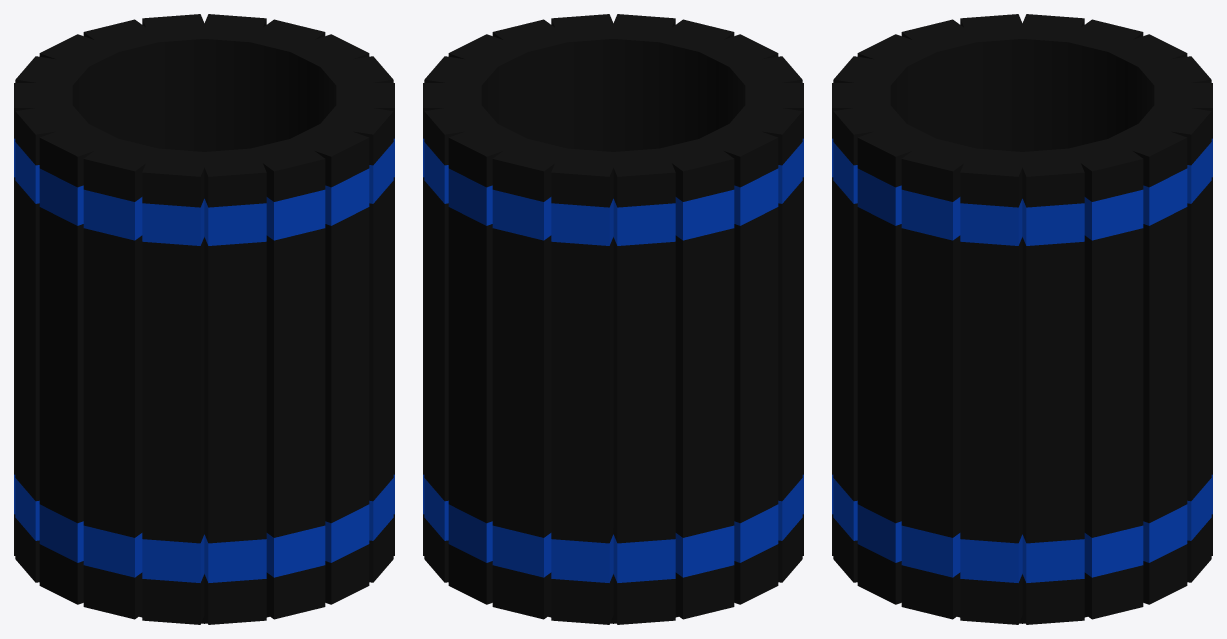
File: MOD_Poubelle.FBX
The picture shows the model from 3 angles, left to right: view 1: azimuth 30°, elevation 25°; view 2: azimuth 150°, elevation 25°; view 3: azimuth 270°, elevation 25°; orthographic projection.
Visible parts, largest first — view 1: MOD_Poubelle; view 2: MOD_Poubelle; view 3: MOD_Poubelle.
Boxes of the visible parts, x1=… form: MOD_Poubelle: x1=14, y1=14, x2=394, y2=624; MOD_Poubelle: x1=423, y1=14, x2=803, y2=624; MOD_Poubelle: x1=832, y1=14, x2=1212, y2=624.
Size of the model in its own units: 22.6 by 30 by 22.34.
